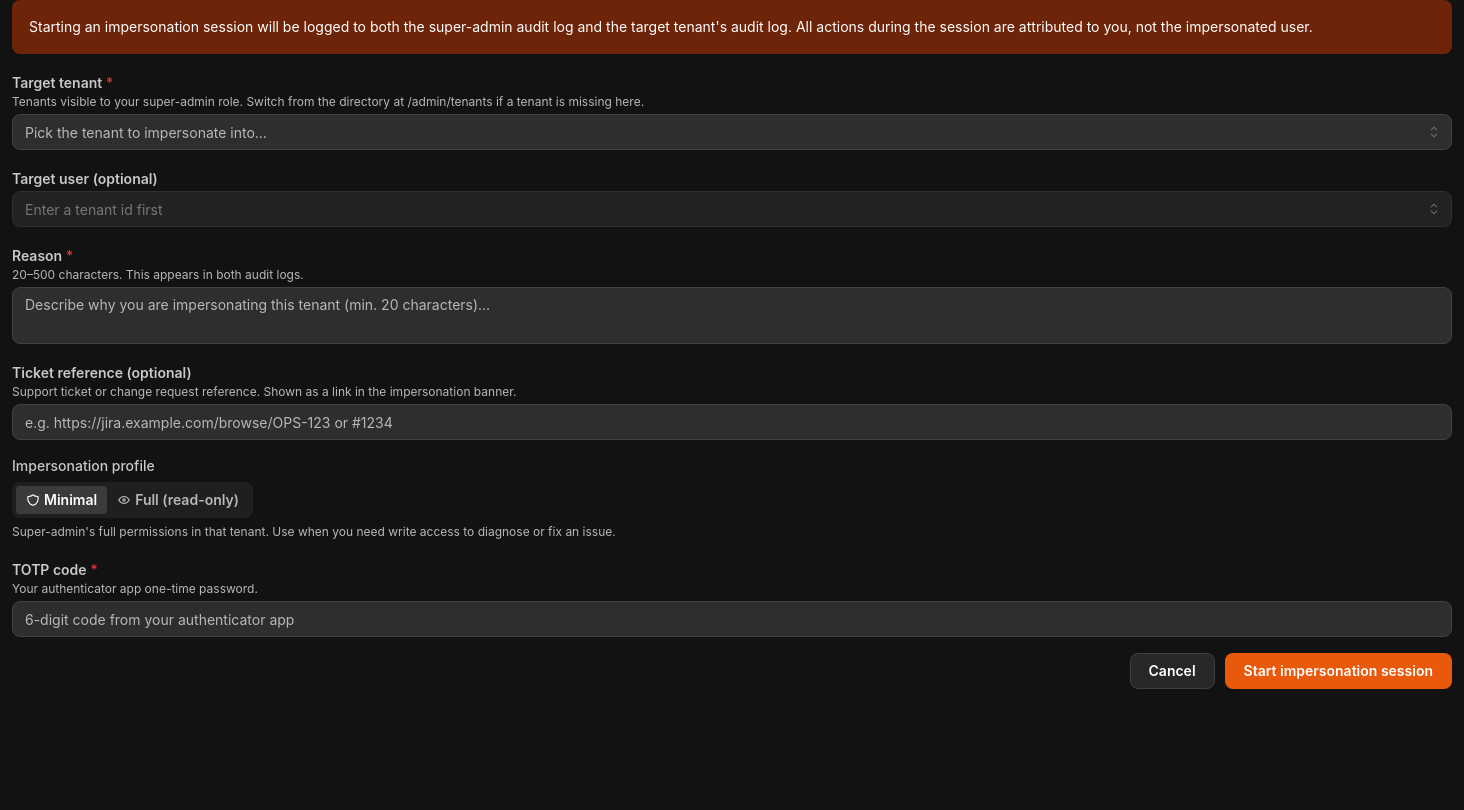
Test: ImpersonationEntryForm › shows validation error if TOTP is not 6 digits
Type "123" into the field labelled "TOTP code *" at [732, 619], box x1=12 y1=601 x2=1452 y2=637
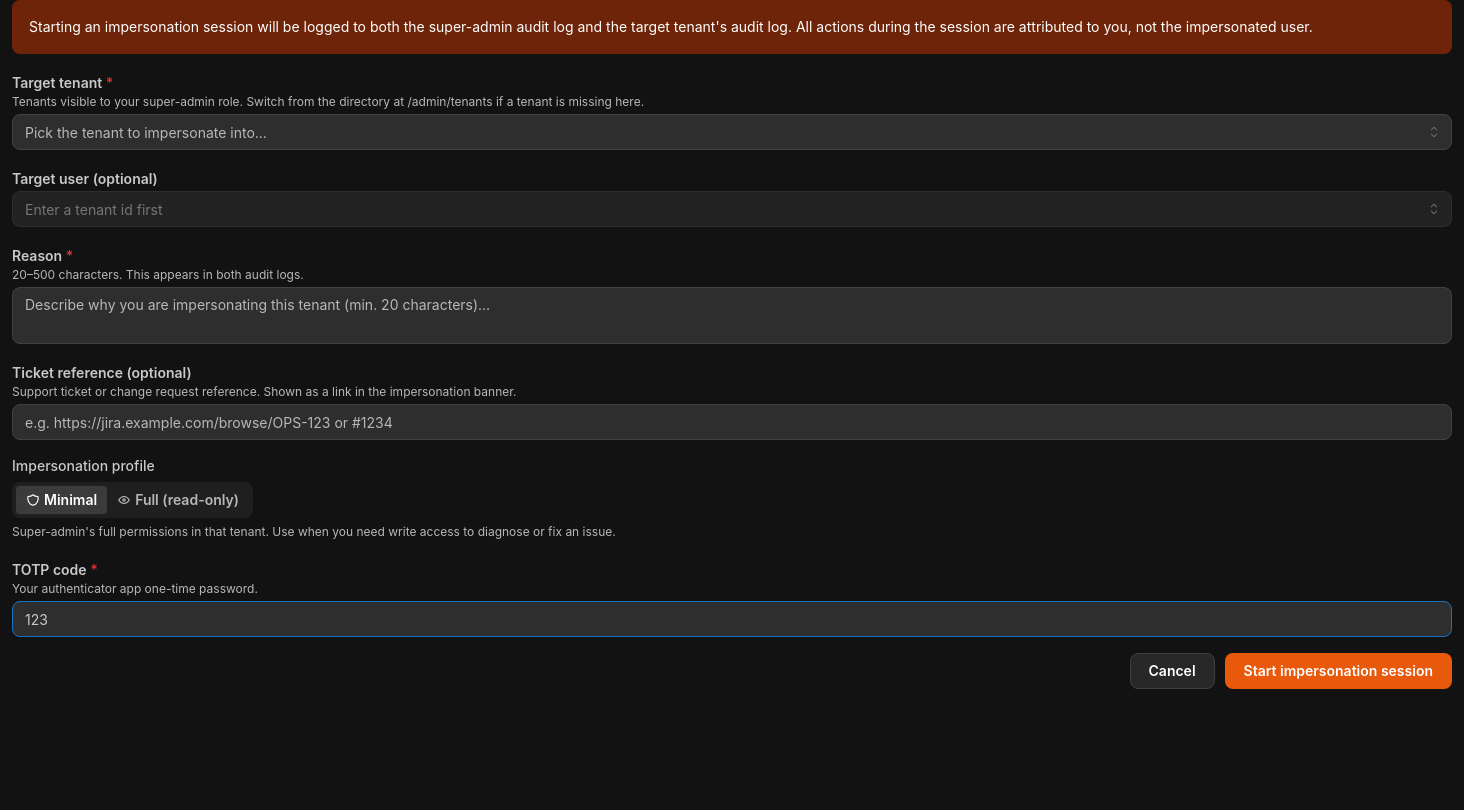
Press Tab
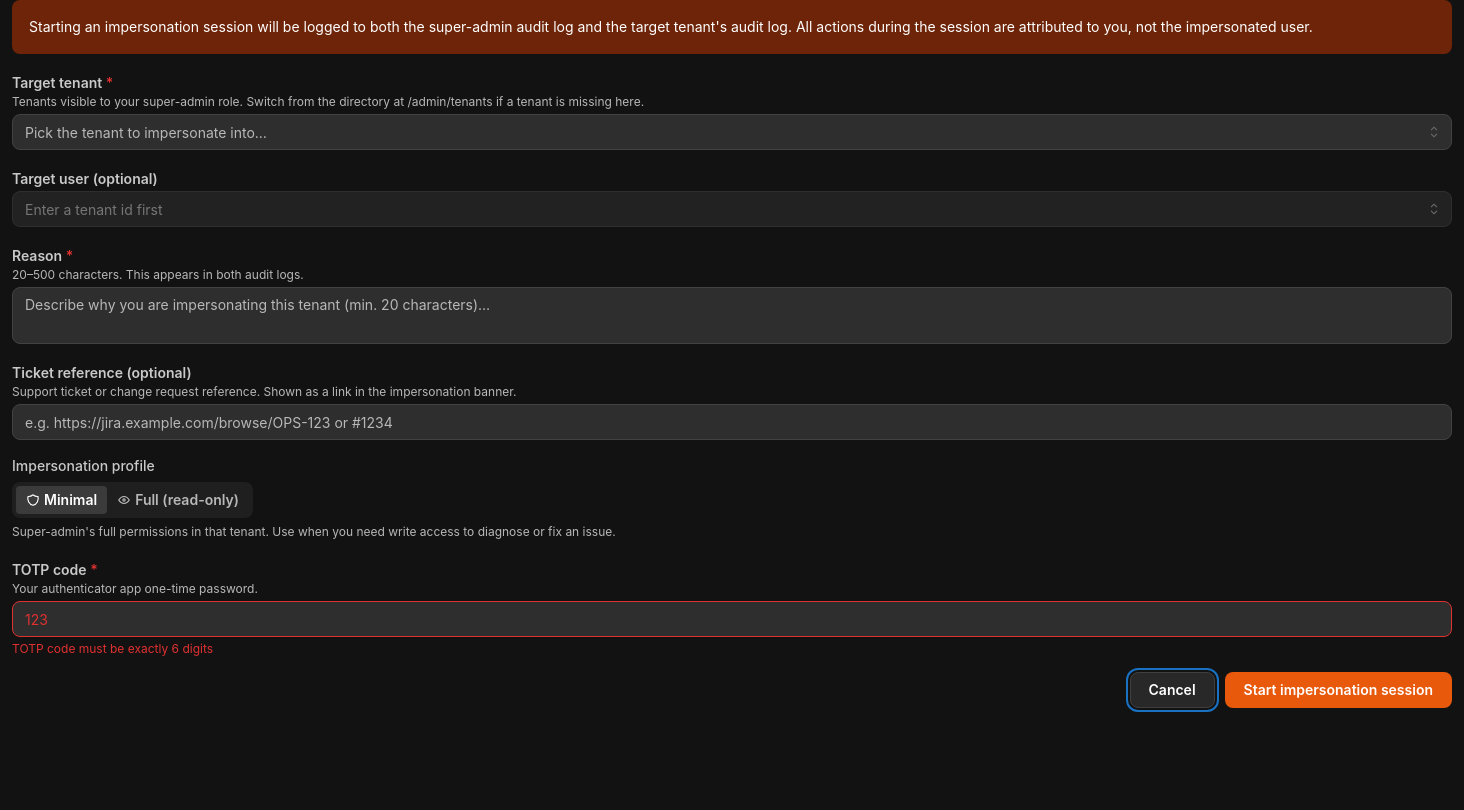
Check: the text "TOTP code must be exactly 6 digits" is shown, box x1=12 y1=641 x2=213 y2=656
